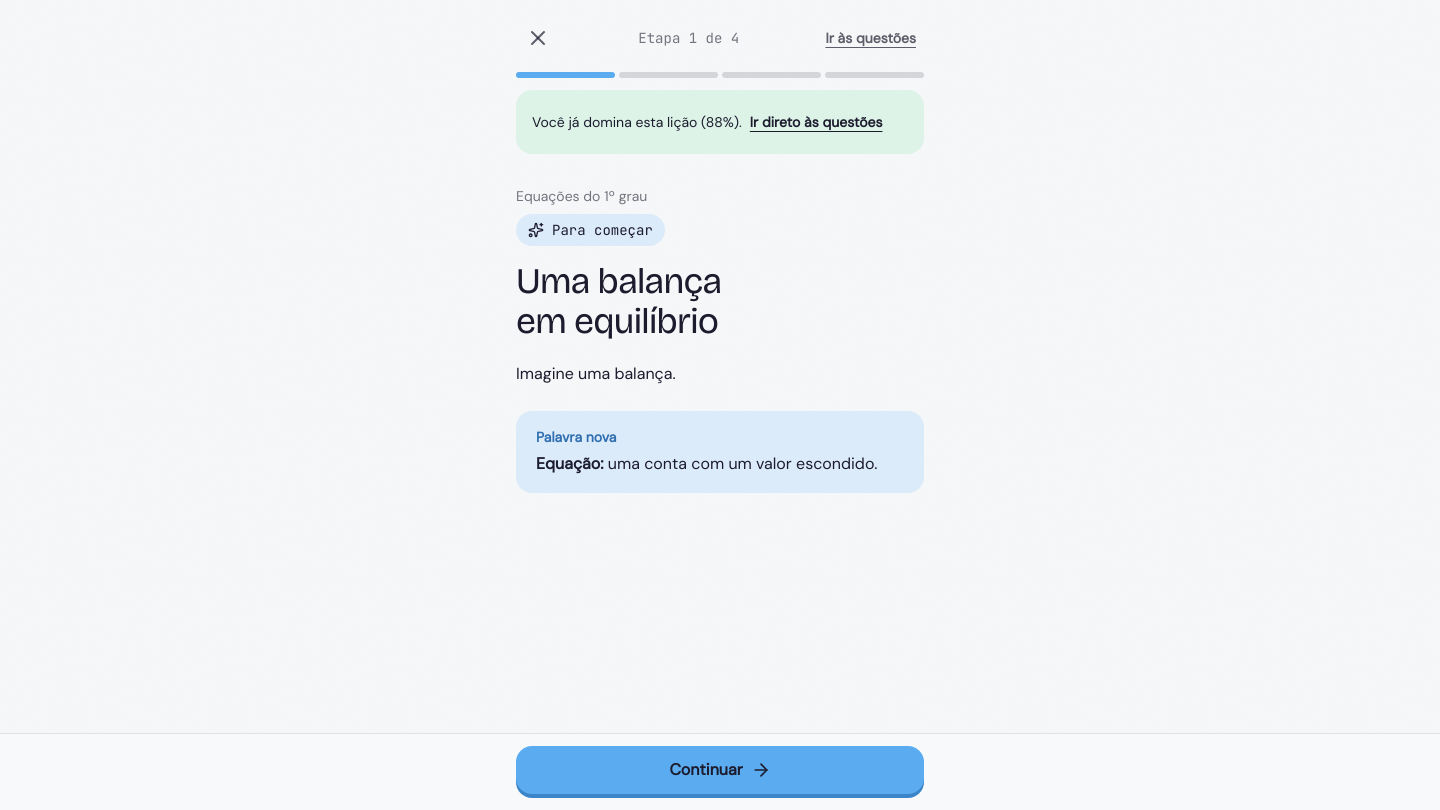
Test: LessonStepper › oferece ir direto às questões para quem já domina a lição
The width and height of the screenshot is (1440, 810).
Expected: the text "Você já domina esta lição (88%)." is shown, [532,112,742,132]
// Só na primeira tela: depois de avançar, o aviso some.
Click the button "Continuar" at (720, 770), box [516,746,924,794]
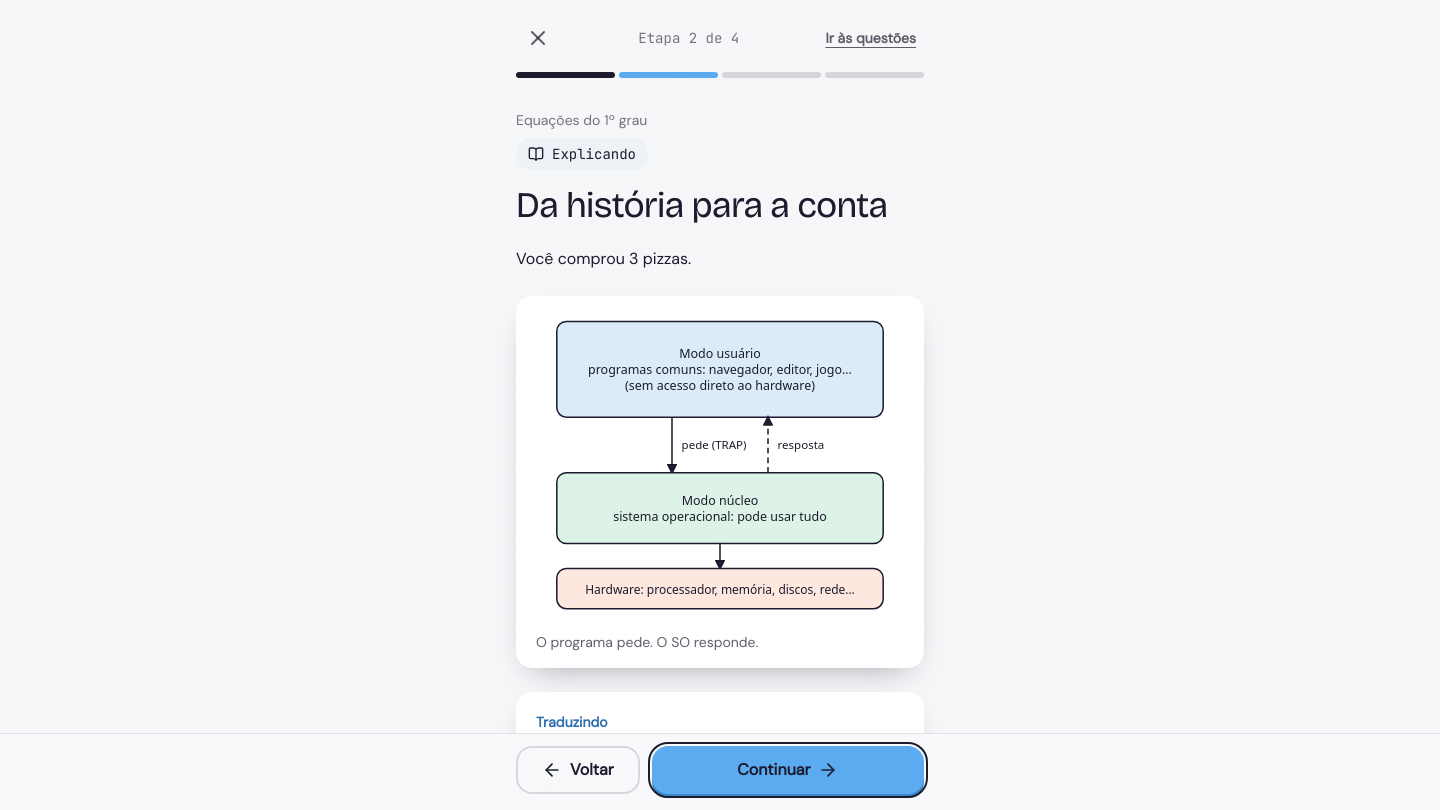
Now the text "Você já domina" is gone
